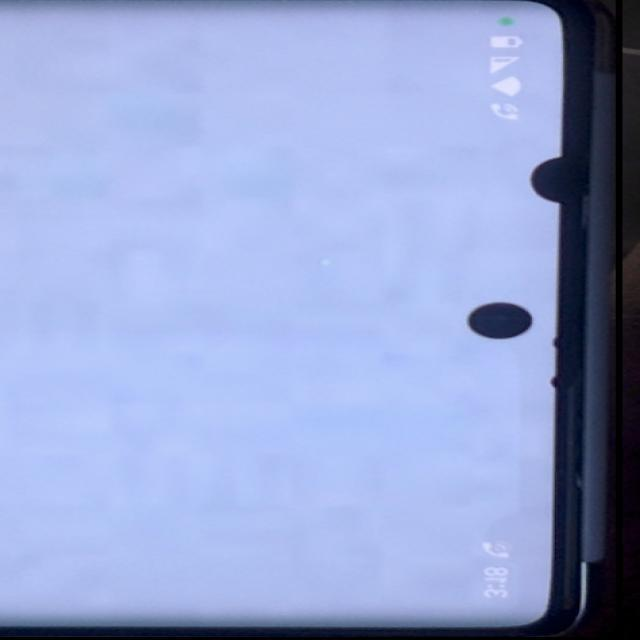dead pixel: (509, 146, 594, 212), (542, 319, 583, 403)
